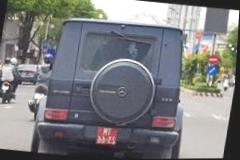License_Plate: (94, 126, 117, 145)
